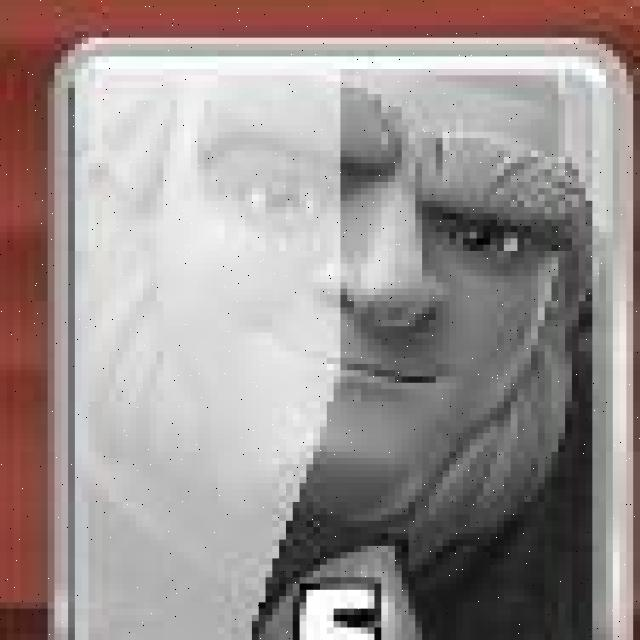Giant: (47, 42, 637, 640)
